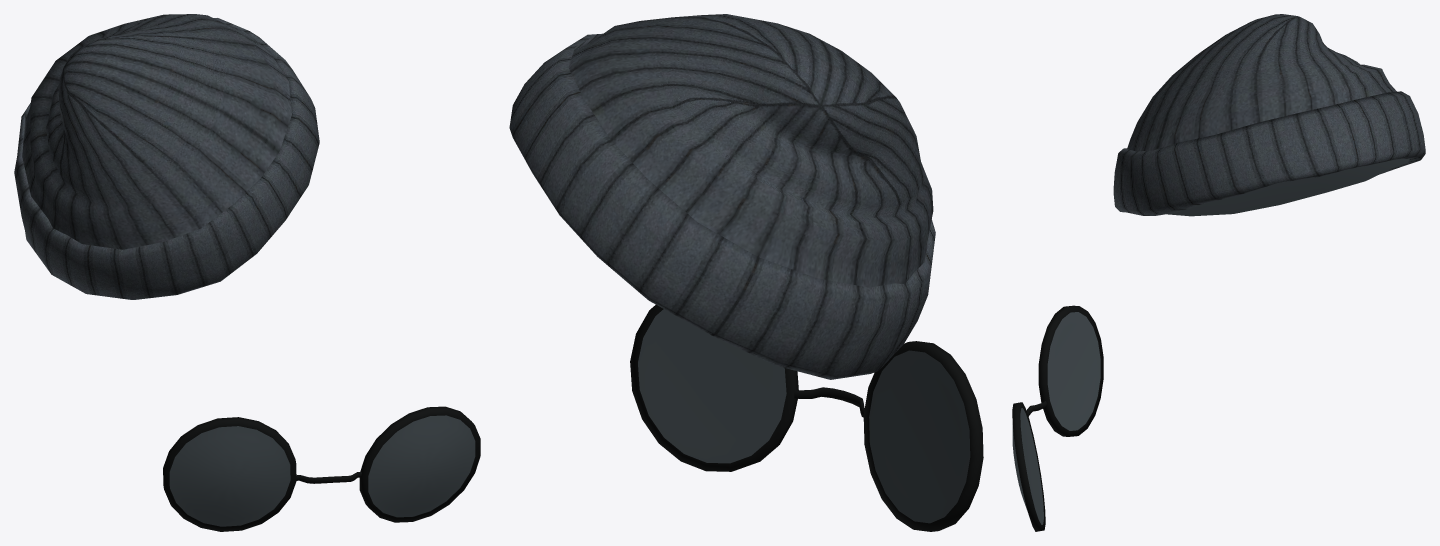
The model's file is pm0215_00_Rig.fbx.
3 views of the same model, side by side, from view 1: azimuth 30°, elevation 25°; view 2: azimuth 150°, elevation 25°; view 3: azimuth 270°, elevation 25° (orthographic). The views are drawn at different scales.
Parts seen in each view (by area): view 1: CostumeSkin; view 2: CostumeSkin; view 3: CostumeSkin.
Boxes of the visible parts, x1,y1,x2,y2 form: CostumeSkin: (14,14,480,531); CostumeSkin: (509,14,983,531); CostumeSkin: (1012,14,1425,531).
Size of the model in its own units: 0.2448 by 0.3238 by 0.2863.
